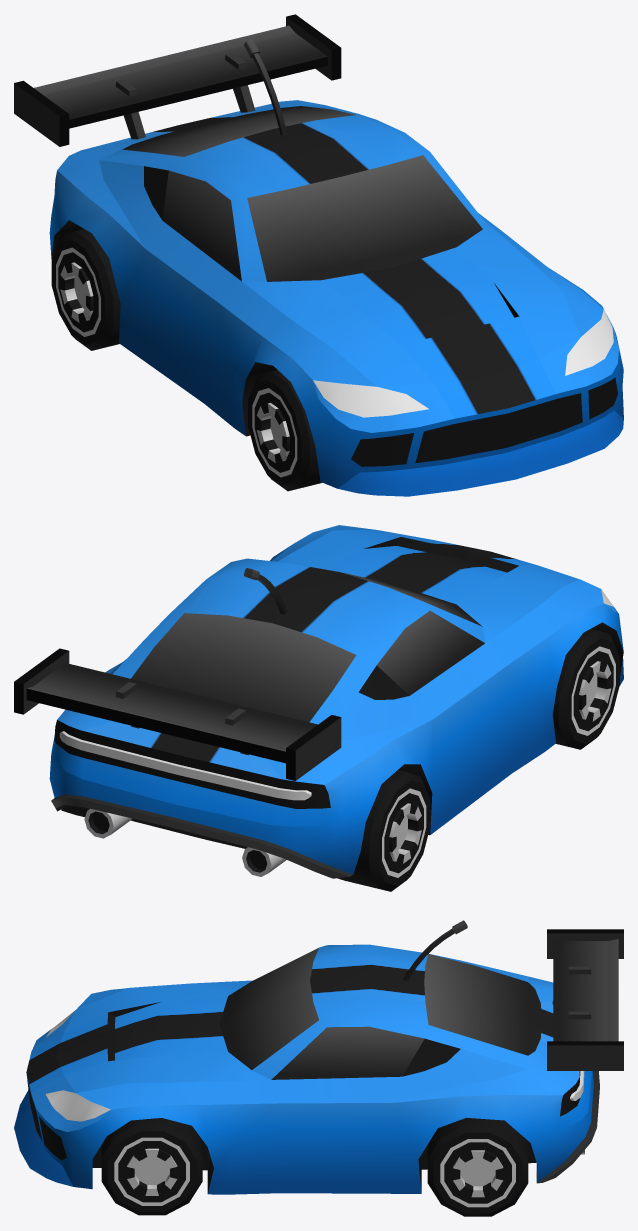
The picture shows the model from 3 angles, top to bottom: view 1: azimuth 30°, elevation 25°; view 2: azimuth 150°, elevation 25°; view 3: azimuth 270°, elevation 25°; orthographic projection. The views are drawn at different scales.
Parts seen in each view (by area): view 1: 7, pioneertire, pioneertire.003; view 2: 7, pioneertire, pioneertire.003; view 3: 7, pioneertire.002, pioneertire.001.
Part boxes in pixels (x1,y1,x2,y2): 7: [14, 14, 623, 496]; pioneertire: [51, 229, 120, 350]; pioneertire.003: [248, 370, 322, 491]; 7: [14, 525, 623, 878]; pioneertire: [338, 770, 430, 891]; pioneertire.003: [552, 628, 619, 749]; 7: [14, 920, 623, 1194]; pioneertire.002: [427, 1117, 528, 1216]; pioneertire.001: [101, 1118, 202, 1215].
Bounding box in the file's own units: 203 × 160 × 383.
